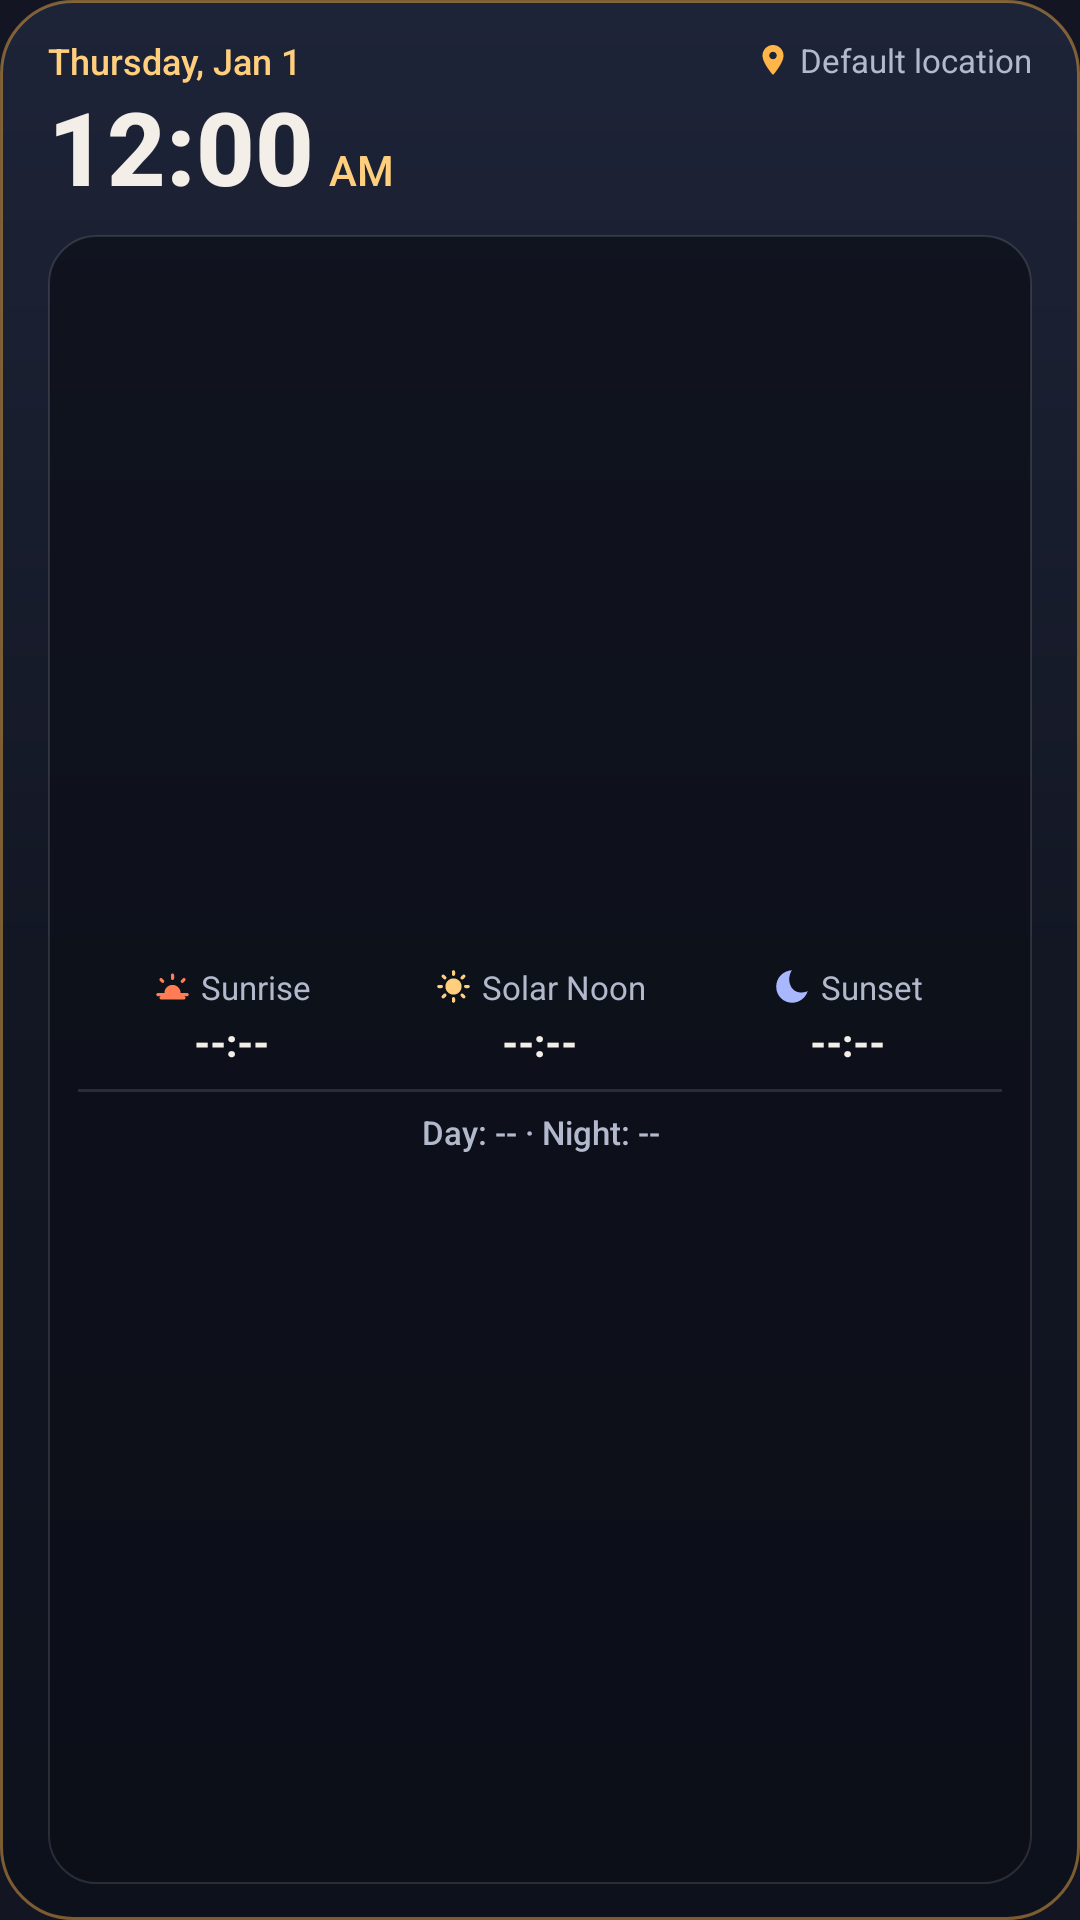

Point at icon controls on the screen. Image size 1080*1920, points as [x,y].
widget location: [773,60]
